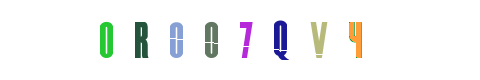0: (97, 0, 177, 80), (201, 0, 281, 80)
4: (316, 0, 396, 80)
7: (206, 0, 286, 80)
O: (142, 0, 222, 80)
Q: (240, 0, 320, 80)
R: (132, 0, 212, 80)
V: (256, 0, 336, 80)
